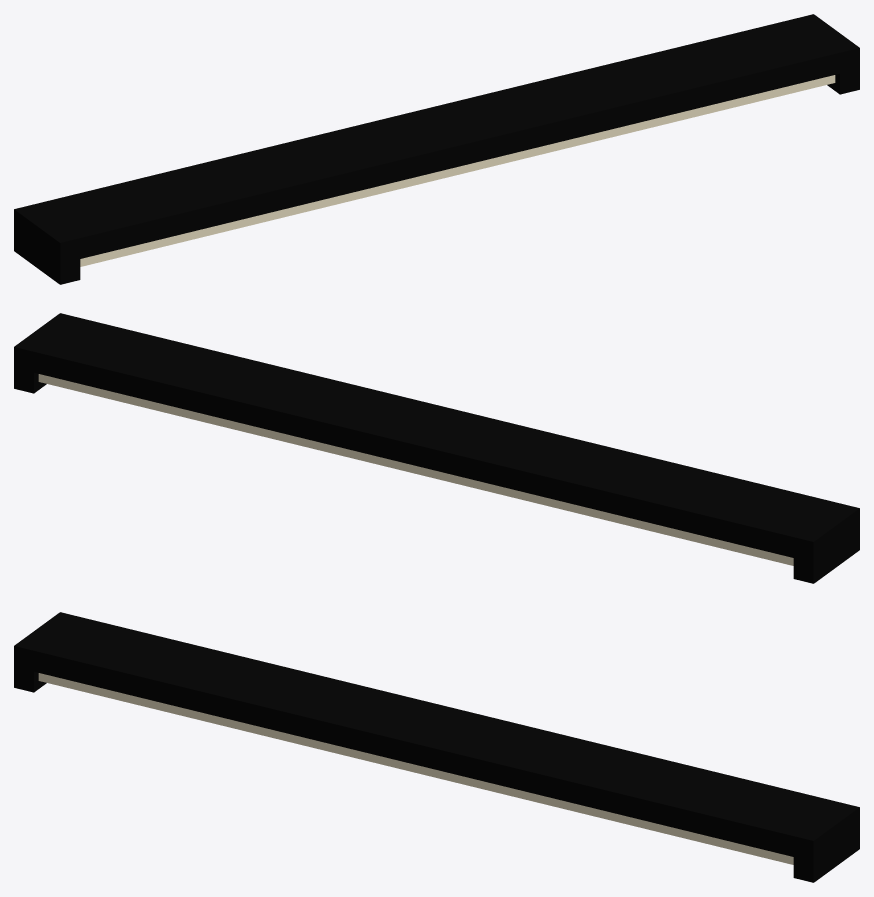
File: Lamp.fbx
The picture shows the model from 3 angles, top to bottom: view 1: azimuth 30°, elevation 25°; view 2: azimuth 150°, elevation 25°; view 3: azimuth 330°, elevation 25°; orthographic projection.
Visible parts, largest first — view 1: Cube; view 2: Cube; view 3: Cube.
Boxes of the visible parts, x1,y1,x2,y2 form: Cube: (14,14,859,284); Cube: (14,313,859,583); Cube: (14,612,859,882).
Bounding box in the file's own units: 200 × 10 × 20.
